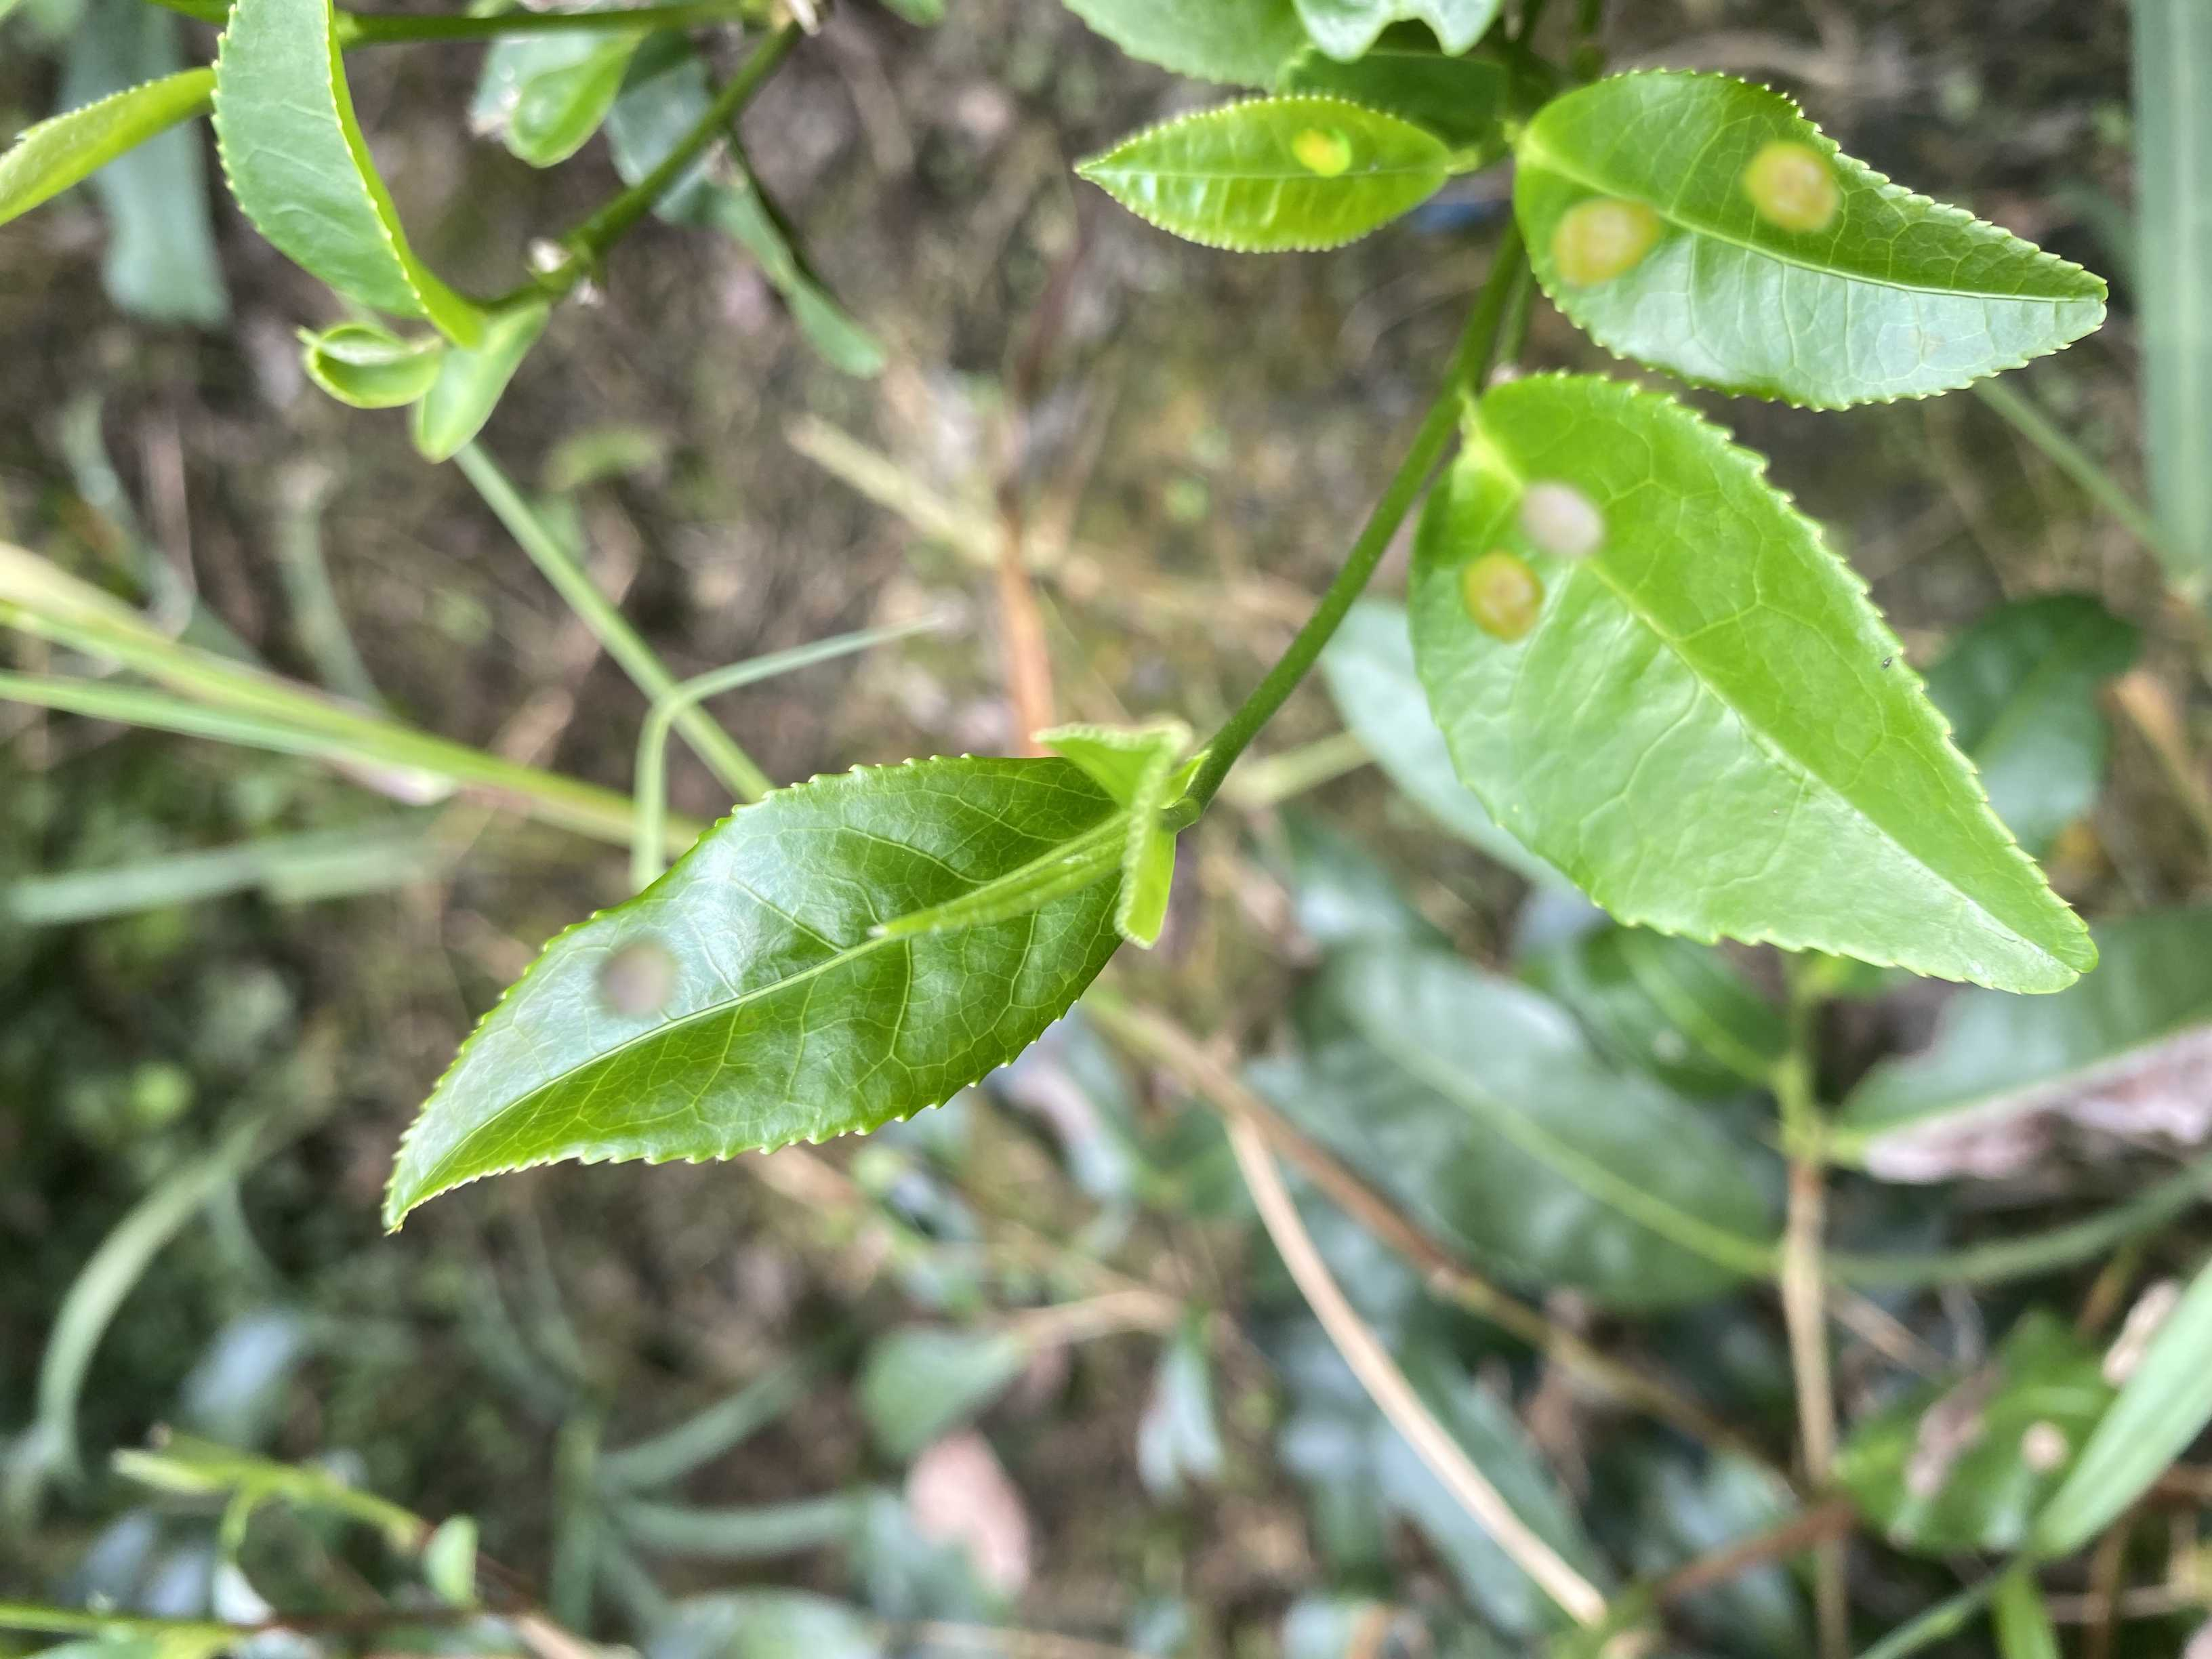chabing_high: (1404, 371, 2102, 997), (1508, 63, 2111, 413)
chabing_low: (380, 753, 1163, 1216), (1073, 91, 1458, 254)
healthy: (207, 2, 486, 349)
